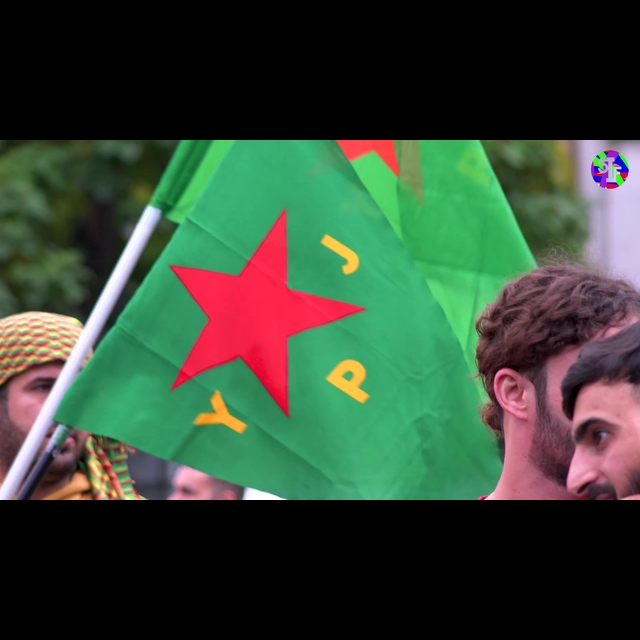YPJ: (147, 197, 384, 444)
